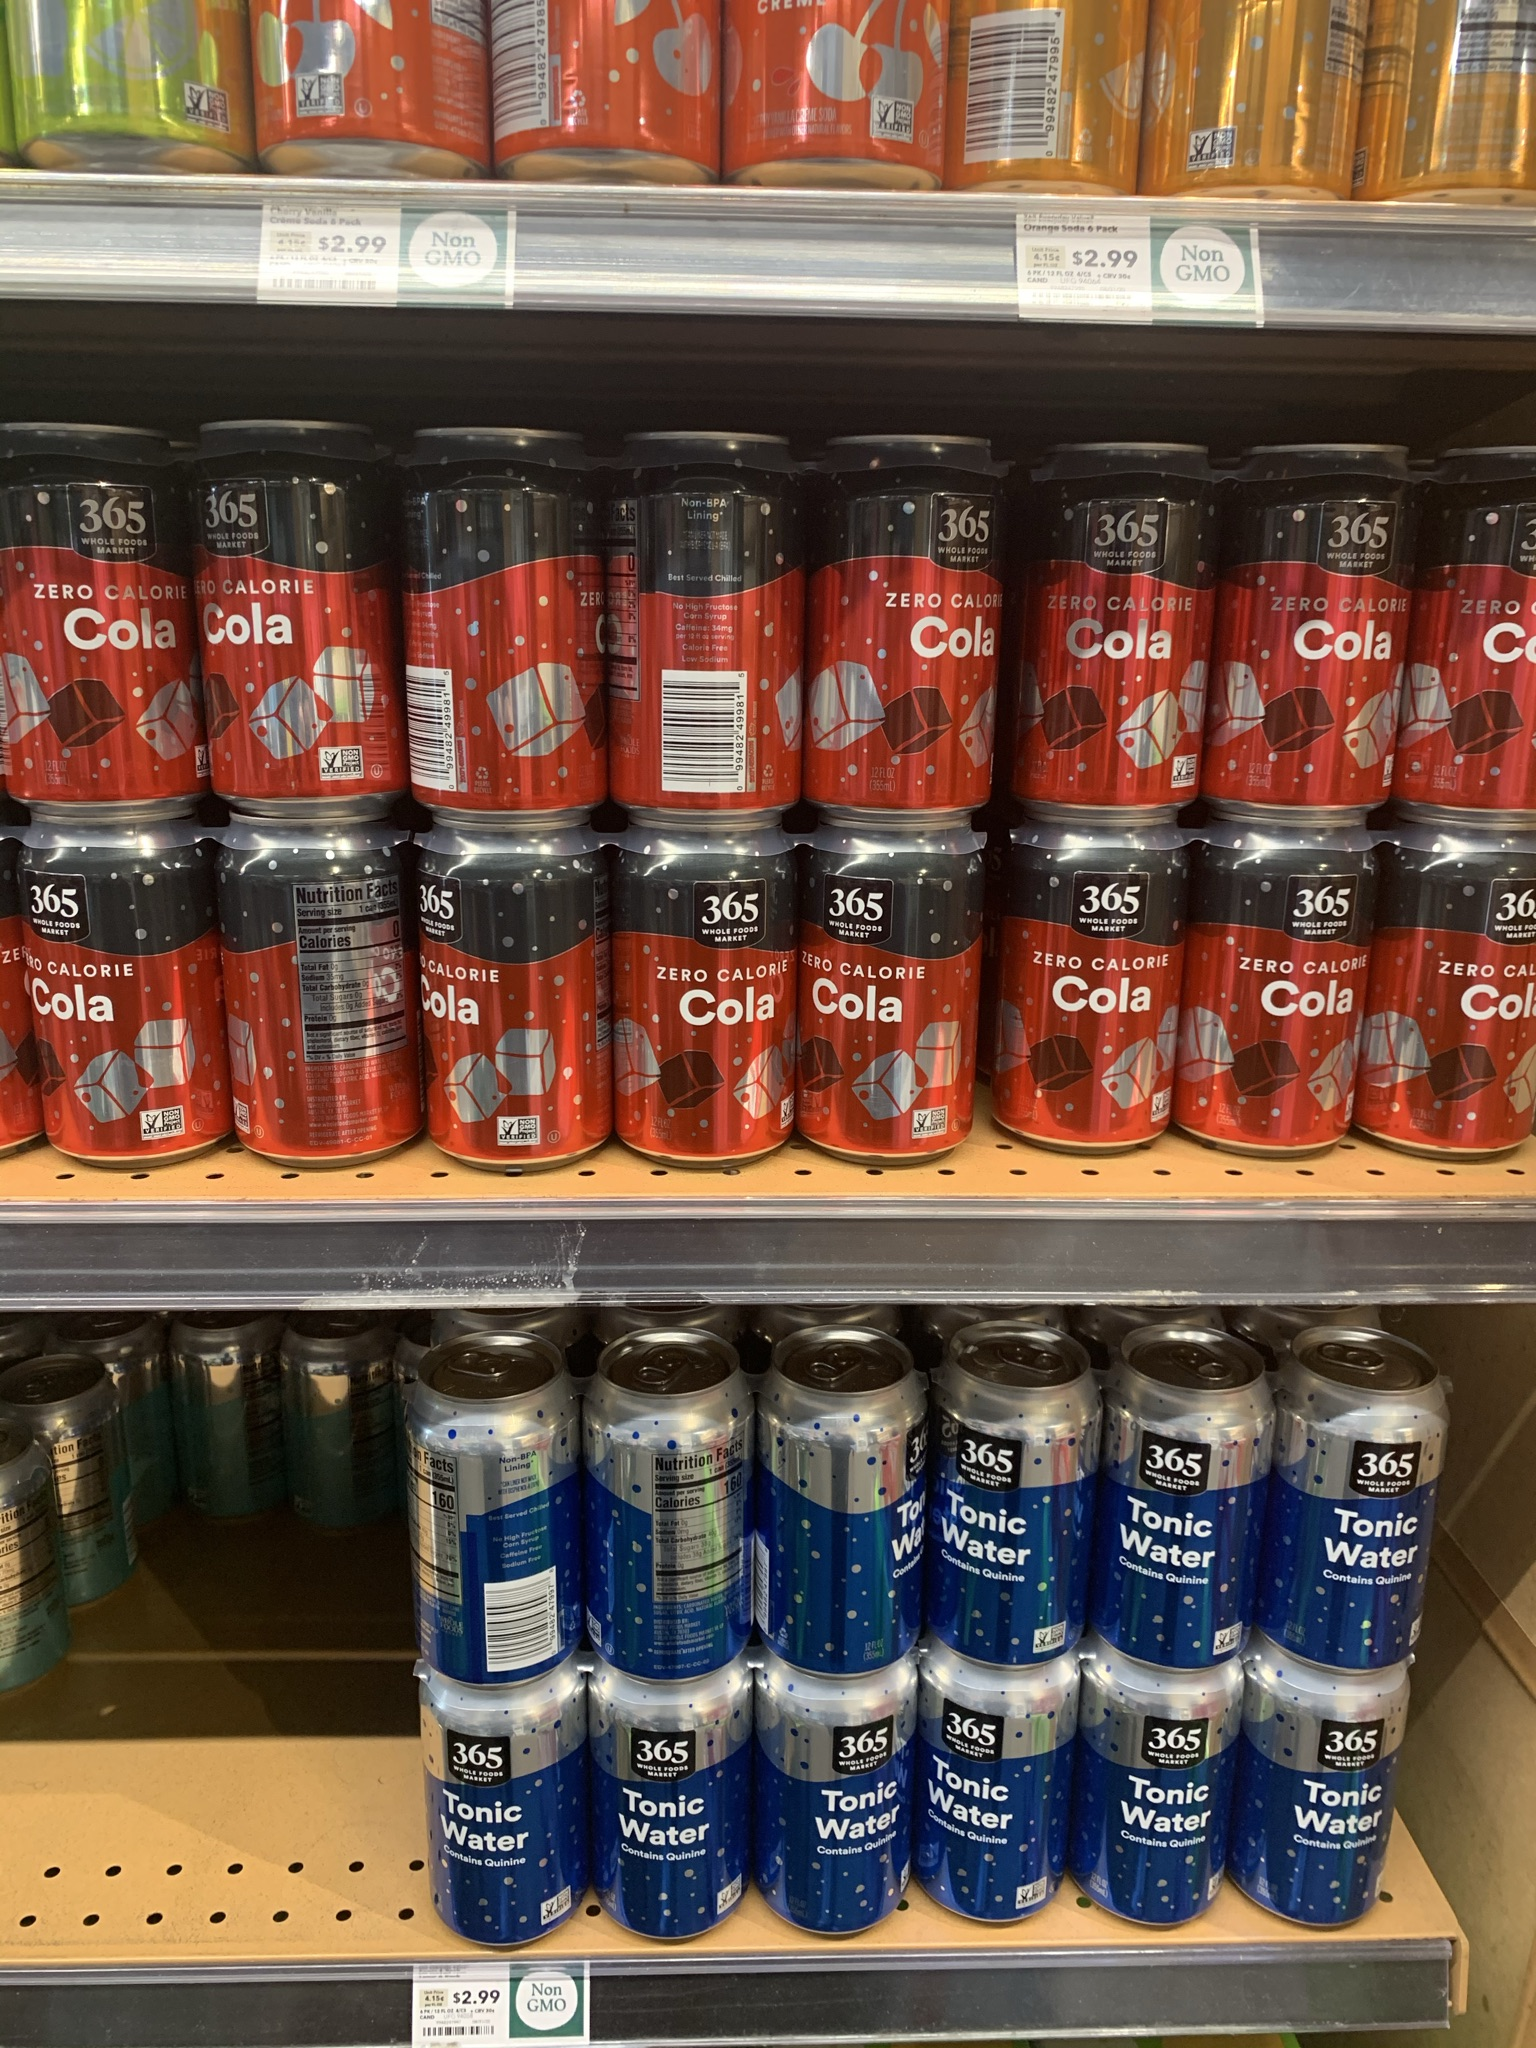coke soda: (3, 424, 216, 805), (629, 429, 808, 830), (403, 426, 602, 785), (24, 826, 229, 1164), (215, 835, 429, 1151), (828, 431, 1002, 810), (429, 835, 624, 1159), (1025, 439, 1204, 792), (1207, 821, 1375, 1185), (224, 426, 382, 779), (812, 843, 978, 1147), (616, 855, 783, 1147), (1020, 839, 1175, 1151), (1239, 461, 1392, 771)
tonic soda: (392, 1343, 592, 1911), (589, 1334, 762, 1924), (762, 1338, 921, 1925), (939, 1329, 1084, 1904), (1289, 1351, 1407, 1942), (1129, 1330, 1229, 1901)
